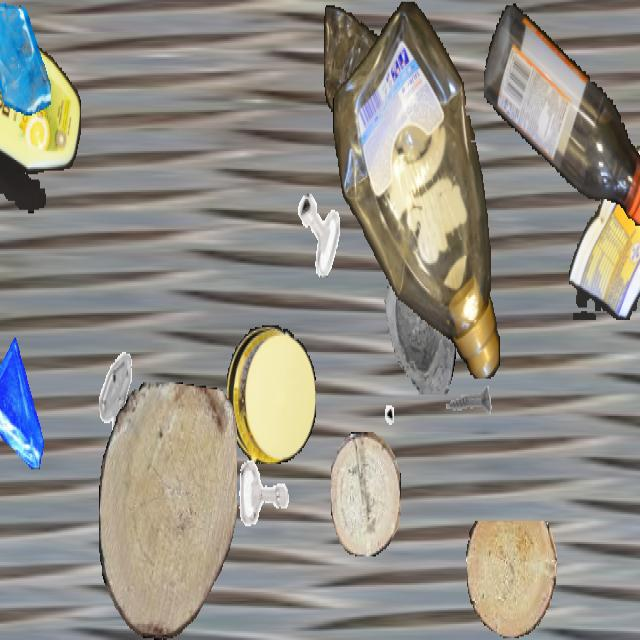glass: (369, 234, 459, 394), (0, 338, 52, 469), (0, 1, 51, 116)
metal: (233, 439, 295, 549), (85, 349, 145, 455), (441, 363, 493, 455), (344, 353, 394, 442), (295, 190, 343, 276)
plastic: (333, 1, 501, 378), (484, 2, 640, 229), (0, 32, 80, 213), (569, 146, 640, 320), (227, 325, 315, 464), (324, 2, 398, 126)
wood: (99, 382, 237, 638), (466, 521, 556, 638), (331, 432, 401, 556)
